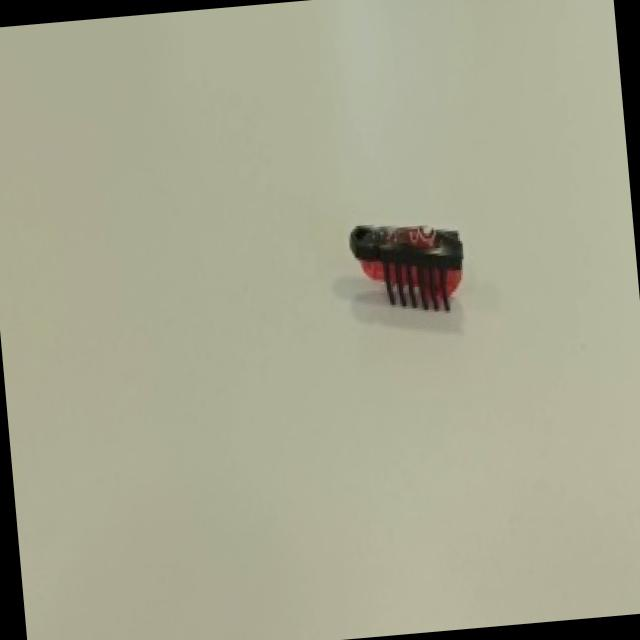2_NanoBug_Negro: (307, 206, 510, 328)
